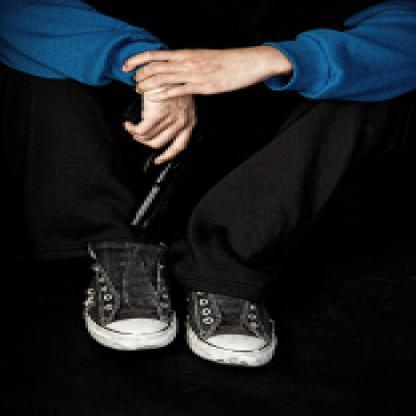pistol: (115, 92, 200, 230)
